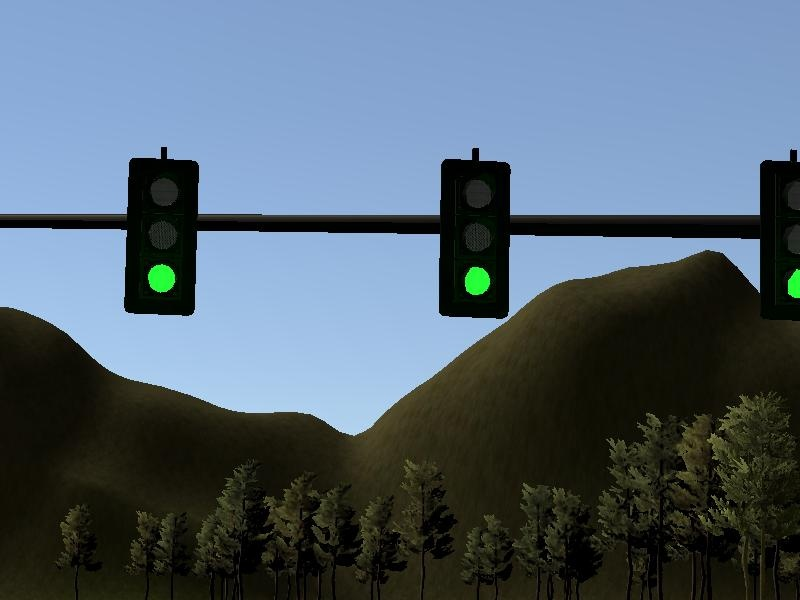GREEN: (438, 158, 511, 318), (125, 157, 198, 317)
